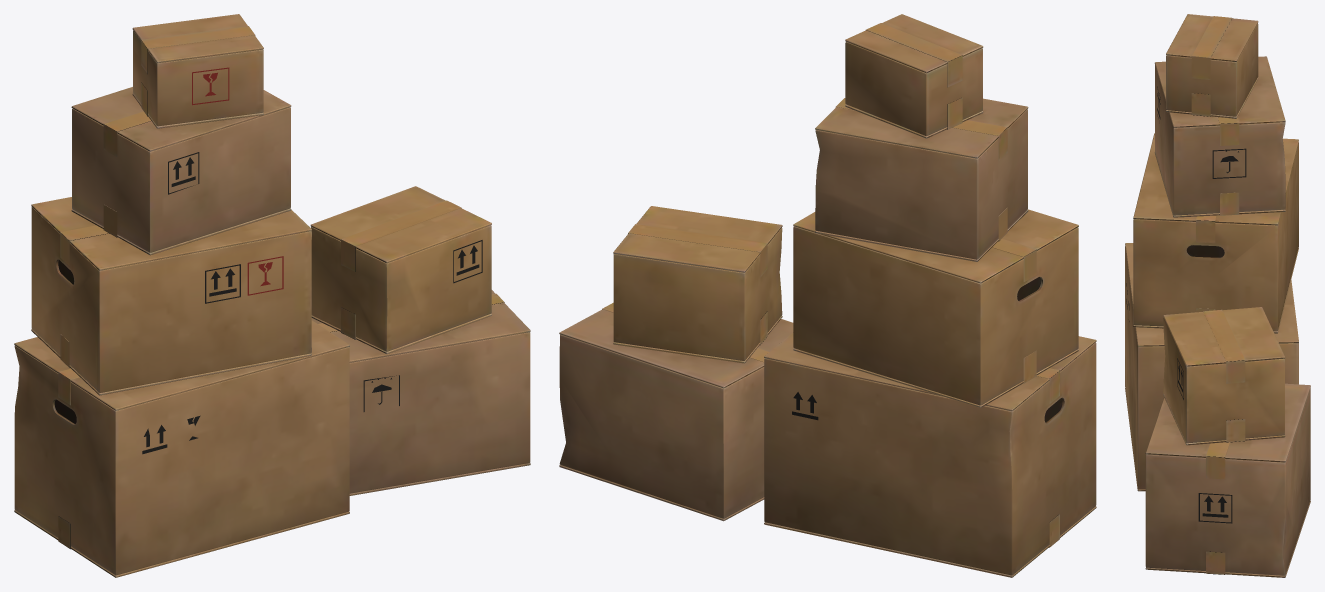
Rendered from cardboard-box-stack.glb.
The picture shows the model from 3 angles, left to right: view 1: azimuth 30°, elevation 25°; view 2: azimuth 150°, elevation 25°; view 3: azimuth 270°, elevation 25°; orthographic projection. The views are drawn at different scales.
Visible parts, largest first — view 1: cardboard-box-stack_body, cardboard-box-stack_box_a_print, cardboard-box-stack_box_c_print; view 2: cardboard-box-stack_body; view 3: cardboard-box-stack_body, cardboard-box-stack_box_a_print.
Part boxes in pixels (x1,y1,x2,y2): cardboard-box-stack_body: (14, 14, 530, 577); cardboard-box-stack_box_a_print: (142, 152, 482, 454); cardboard-box-stack_box_c_print: (192, 67, 283, 295); cardboard-box-stack_body: (559, 14, 1096, 577); cardboard-box-stack_body: (1125, 14, 1310, 577); cardboard-box-stack_box_a_print: (1126, 86, 1246, 523).
Size of the model in its own units: 1.13 by 1.12 by 0.4598.
Materials: 3 (1 with a texture image).
